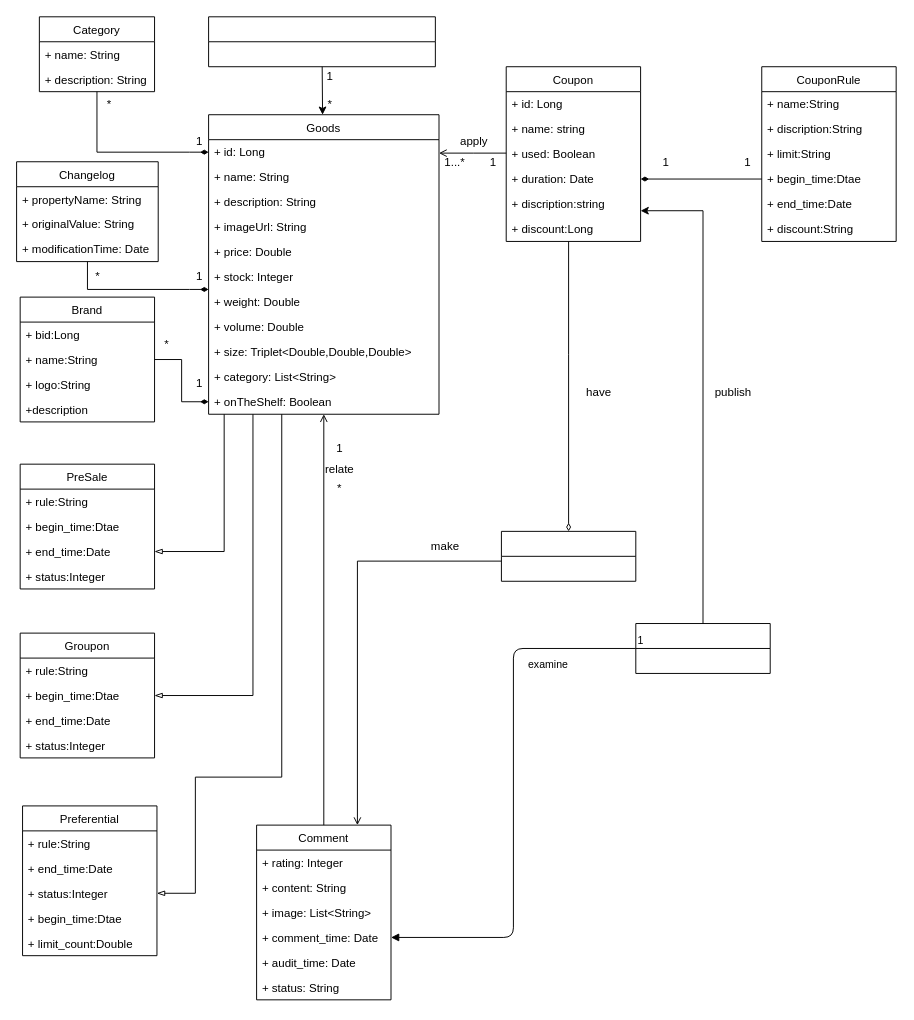
The diagram is 914 pixels wide and 1020 high, and some of its shapes have lost their labels. The centre of each missing label's shape, as x and y in pixels:
"Administrator" goes at point (702, 648).
"Order" goes at point (321, 41).
"User" goes at point (568, 555).
